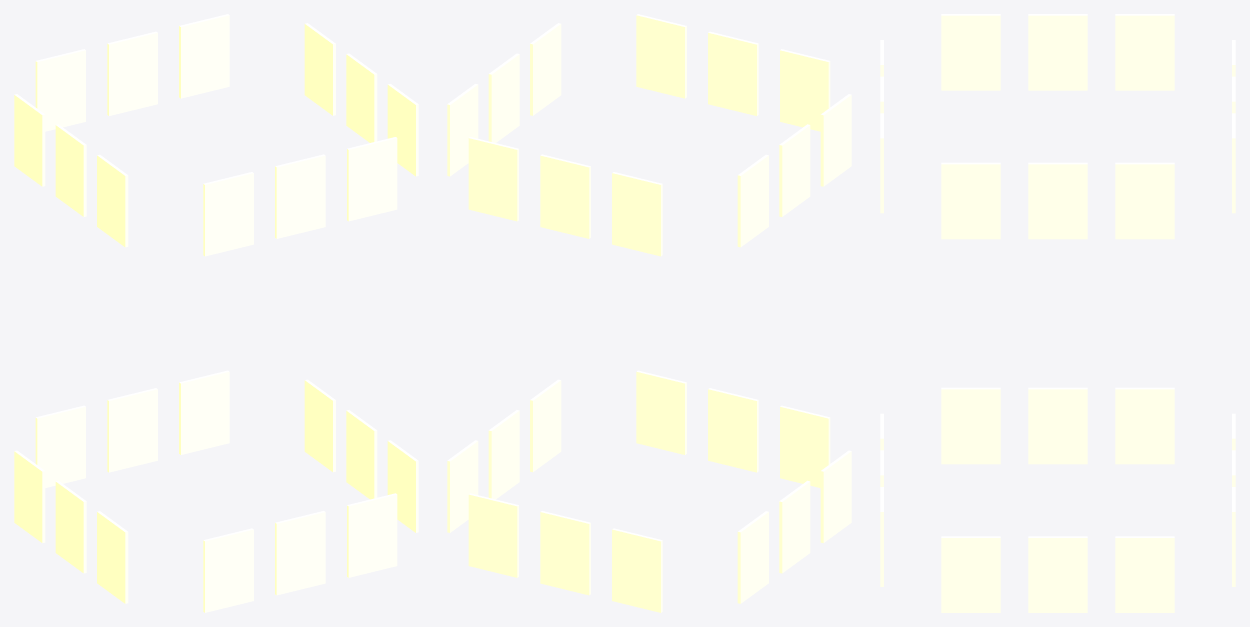
Rendered from building-skyscraper-b.glb.
The picture shows the model from 3 angles, left to right: view 1: azimuth 30°, elevation 25°; view 2: azimuth 150°, elevation 25°; view 3: azimuth 270°, elevation 25°; orthographic projection. The views are drawn at different scales.
Visible parts, largest first — view 1: WindowLight_back_0_2, WindowLight_back_1_2, WindowLight_front_0_0, WindowLight_front_0_2, WindowLight_front_1_0, WindowLight_back_0_1, WindowLight_back_1_1, WindowLight_front_0_1, WindowLight_front_1_1, WindowLight_front_1_2, WindowLight_back_0_0, WindowLight_back_1_0 (+12 smaller); view 2: WindowLight_back_0_0, WindowLight_back_0_2, WindowLight_back_1_0, WindowLight_front_0_2, WindowLight_front_1_2, WindowLight_back_0_1, WindowLight_back_1_1, WindowLight_back_1_2, WindowLight_front_0_1, WindowLight_front_1_1, WindowLight_front_0_0, WindowLight_front_1_0 (+12 smaller); view 3: WindowLight_left_0_0, WindowLight_left_0_1, WindowLight_left_0_2, WindowLight_right_1_0, WindowLight_right_1_1, WindowLight_right_1_2, WindowLight_left_1_0, WindowLight_left_1_1, WindowLight_left_1_2, WindowLight_right_0_0, WindowLight_right_0_1, WindowLight_right_0_2.
Part boxes in pixels (x1=…): WindowLight_back_0_2: x1=179, y1=370, x2=229, y2=454; WindowLight_back_1_2: x1=179, y1=14, x2=229, y2=98; WindowLight_front_0_0: x1=203, y1=528, x2=253, y2=612; WindowLight_front_0_2: x1=347, y1=493, x2=397, y2=577; WindowLight_front_1_0: x1=203, y1=172, x2=253, y2=256; WindowLight_back_0_1: x1=107, y1=388, x2=157, y2=472; WindowLight_back_1_1: x1=107, y1=31, x2=157, y2=115; WindowLight_front_0_1: x1=275, y1=511, x2=325, y2=595; WindowLight_front_1_1: x1=275, y1=154, x2=325, y2=238; WindowLight_front_1_2: x1=347, y1=137, x2=397, y2=221; WindowLight_back_0_0: x1=35, y1=405, x2=85, y2=487; WindowLight_back_1_0: x1=35, y1=49, x2=85, y2=131; WindowLight_back_0_0: x1=612, y1=528, x2=662, y2=612; WindowLight_back_0_2: x1=468, y1=493, x2=518, y2=577; WindowLight_back_1_0: x1=612, y1=172, x2=662, y2=256; WindowLight_front_0_2: x1=636, y1=370, x2=686, y2=454; WindowLight_front_1_2: x1=636, y1=14, x2=686, y2=98; WindowLight_back_0_1: x1=540, y1=511, x2=590, y2=595; WindowLight_back_1_1: x1=540, y1=154, x2=590, y2=238; WindowLight_back_1_2: x1=468, y1=137, x2=518, y2=221; WindowLight_front_0_1: x1=708, y1=388, x2=758, y2=472; WindowLight_front_1_1: x1=708, y1=31, x2=758, y2=115; WindowLight_front_0_0: x1=780, y1=405, x2=830, y2=487; WindowLight_front_1_0: x1=780, y1=49, x2=830, y2=131; WindowLight_left_0_0: x1=941, y1=387, x2=1000, y2=464; WindowLight_left_0_1: x1=1028, y1=387, x2=1087, y2=464; WindowLight_left_0_2: x1=1115, y1=387, x2=1174, y2=464; WindowLight_right_1_0: x1=941, y1=162, x2=1000, y2=239; WindowLight_right_1_1: x1=1028, y1=162, x2=1087, y2=239; WindowLight_right_1_2: x1=1115, y1=162, x2=1174, y2=239; WindowLight_left_1_0: x1=941, y1=14, x2=1000, y2=90; WindowLight_left_1_1: x1=1028, y1=14, x2=1087, y2=90; WindowLight_left_1_2: x1=1115, y1=14, x2=1174, y2=90; WindowLight_right_0_0: x1=941, y1=536, x2=1000, y2=612; WindowLight_right_0_1: x1=1028, y1=536, x2=1087, y2=612; WindowLight_right_0_2: x1=1115, y1=536, x2=1174, y2=612.
Bounding box in the file's own units: 1.39 × 1.94 × 1.39.
